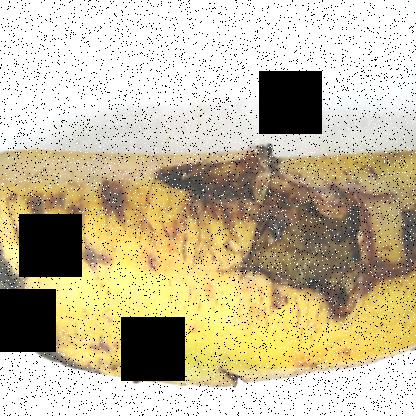rotten: (143, 112, 415, 335), (0, 175, 101, 415)
